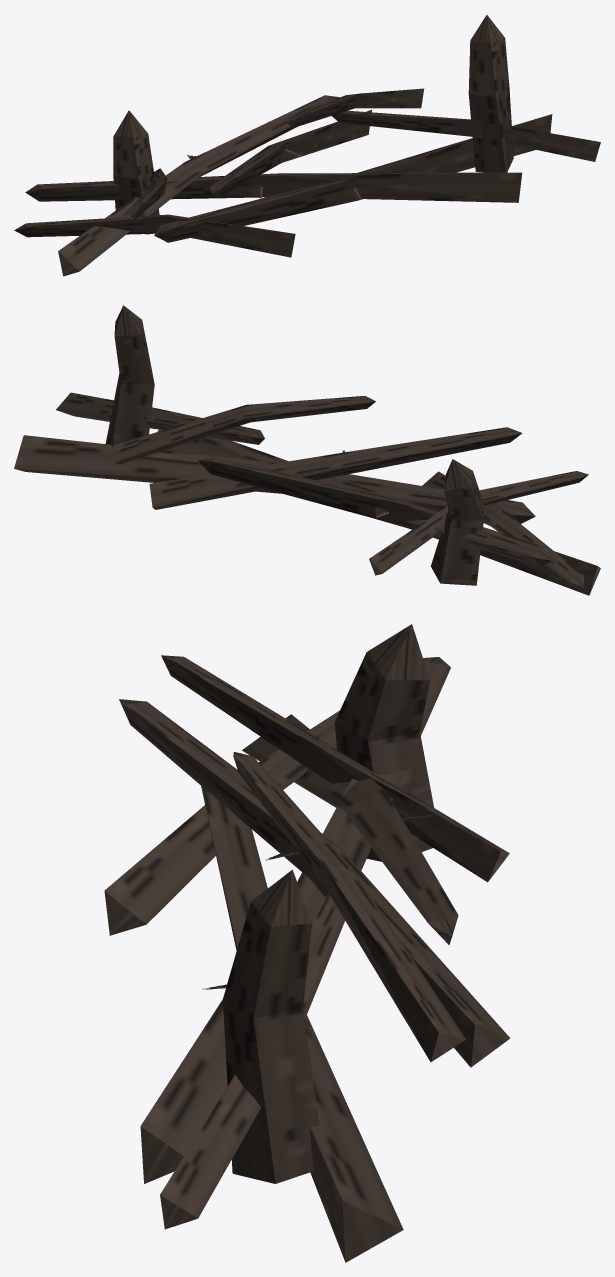
Rendered from SM_VG10_ThornThicketBurnt.fbx.
The picture shows the model from 3 angles, top to bottom: view 1: azimuth 30°, elevation 25°; view 2: azimuth 150°, elevation 25°; view 3: azimuth 270°, elevation 25°; orthographic projection. The views are drawn at different scales.
Parts seen in each view (by area): view 1: VG10_Burnt_Heap; view 2: VG10_Burnt_Heap; view 3: VG10_Burnt_Heap.
Part boxes in pixels (box(x1,y1,x2,y2)): VG10_Burnt_Heap: box(14, 15, 600, 276); VG10_Burnt_Heap: box(14, 305, 600, 595); VG10_Burnt_Heap: box(104, 624, 510, 1262).
Size of the model in its own units: 1.81 by 0.5209 by 0.5993.
